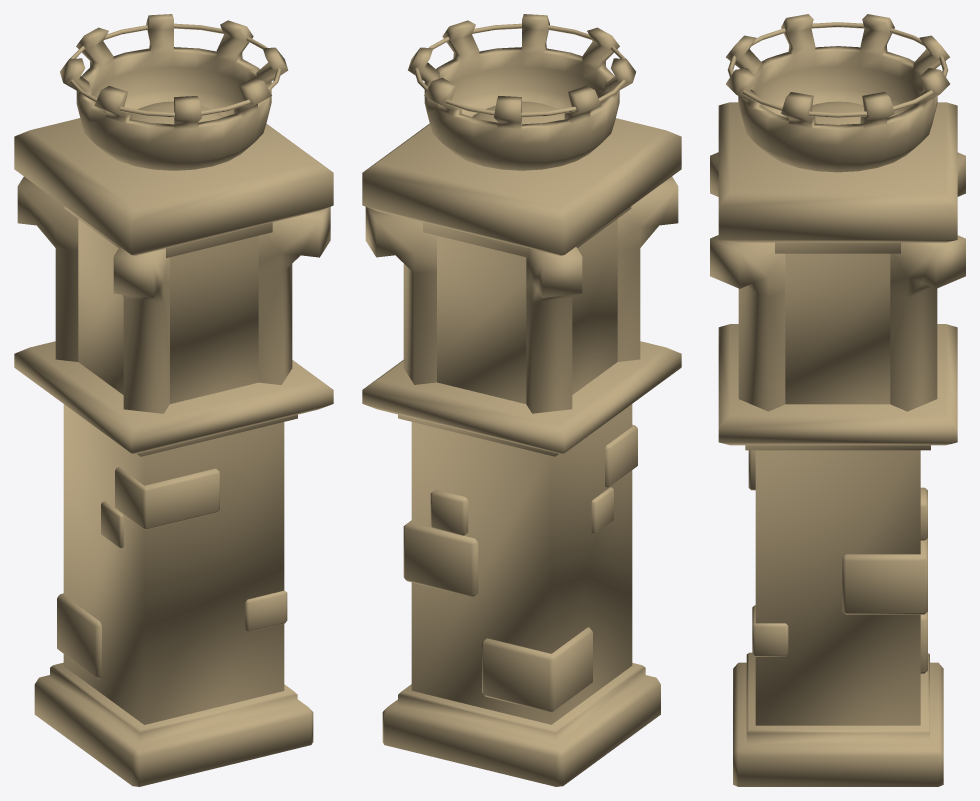
The model's file is Pillar_mesh.fbx.
The picture shows the model from 3 angles, left to right: view 1: azimuth 30°, elevation 25°; view 2: azimuth 150°, elevation 25°; view 3: azimuth 270°, elevation 25°; orthographic projection. The views are drawn at different scales.
Visible parts, largest first — view 1: Object001; view 2: Object001; view 3: Object001.
Boxes of the visible parts, box(x1,y1,x2,y2) form: Object001: box(14, 14, 333, 786); Object001: box(362, 14, 681, 786); Object001: box(710, 14, 965, 786).
Bounding box in the file's own units: 1.94 × 5.71 × 1.94.
